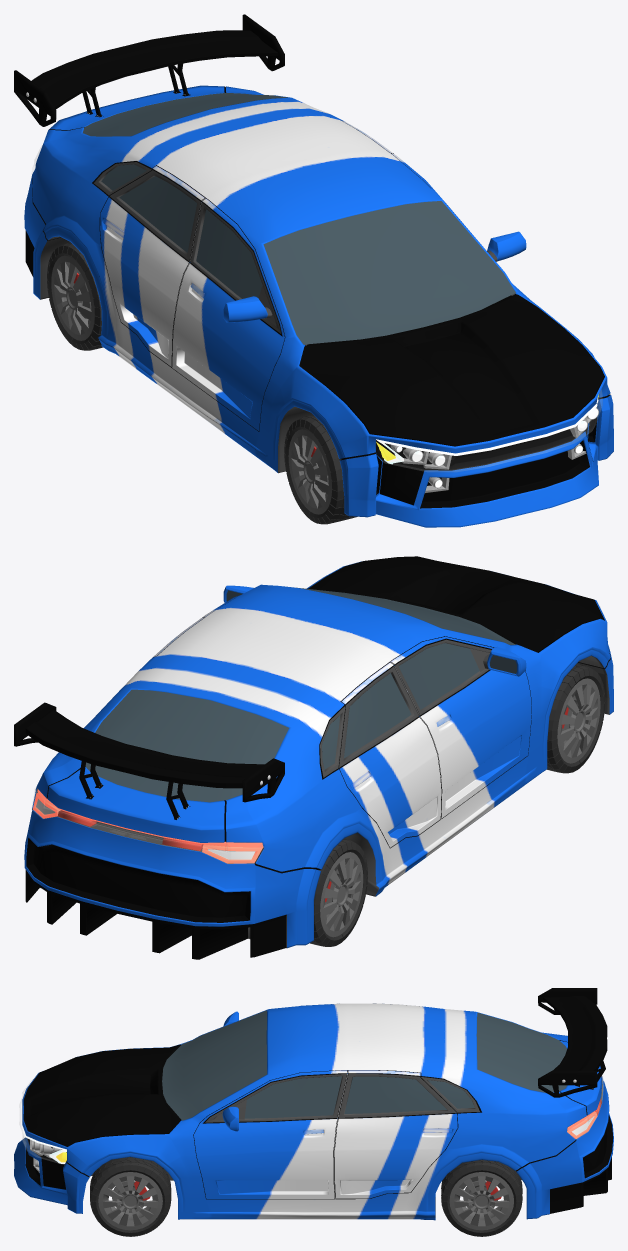
The picture shows the model from 3 angles, top to bottom: view 1: azimuth 30°, elevation 25°; view 2: azimuth 150°, elevation 25°; view 3: azimuth 270°, elevation 25°; orthographic projection. The views are drawn at different scales.
Visible parts, largest first — view 1: Car Body_0, Window_4, Spoiler_1, rim.002_11, rim.003_14, TIRE High.002_12, TIRE High.003_15, Light glass cover_2; view 2: Car Body_0, Window_4, Spoiler_1, rim.002_11, rim.003_14, TIRE High.002_12, TIRE High.003_15; view 3: Car Body_0, Window_4, Spoiler_1, rim_5, rim.001_8, TIRE High_6, TIRE High.001_9.
Part boxes in pixels (<box>): Car Body_0: <box>24,85,613,527</box>; Window_4: <box>83,92,515,344</box>; Spoiler_1: <box>14,14,284,126</box>; rim.002_11: <box>288,429,331,514</box>; rim.003_14: <box>51,255,94,340</box>; TIRE High.002_12: <box>284,415,357,524</box>; TIRE High.003_15: <box>47,242,103,350</box>; Light glass cover_2: <box>32,146,602,471</box>; Car Body_0: <box>24,556,613,959</box>; Window_4: <box>85,587,516,802</box>; Spoiler_1: <box>14,702,284,819</box>; rim.002_11: <box>557,678,600,763</box>; rim.003_14: <box>320,852,363,937</box>; TIRE High.002_12: <box>547,664,605,773</box>; TIRE High.003_15: <box>310,838,367,946</box>; Car Body_0: <box>14,1003,613,1220</box>; Window_4: <box>162,1010,567,1120</box>; Spoiler_1: <box>538,988,607,1097</box>; rim_5: <box>98,1172,162,1230</box>; rim.001_8: <box>449,1172,513,1230</box>; TIRE High_6: <box>90,1157,171,1236</box>; TIRE High.001_9: <box>441,1160,522,1236</box>.
Size of the model in its own units: 2.08 by 1.47 by 4.91.
8 materials, 1 textured.
